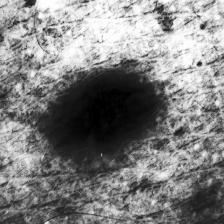Benign Marking or Mole: (54, 76, 156, 144)
